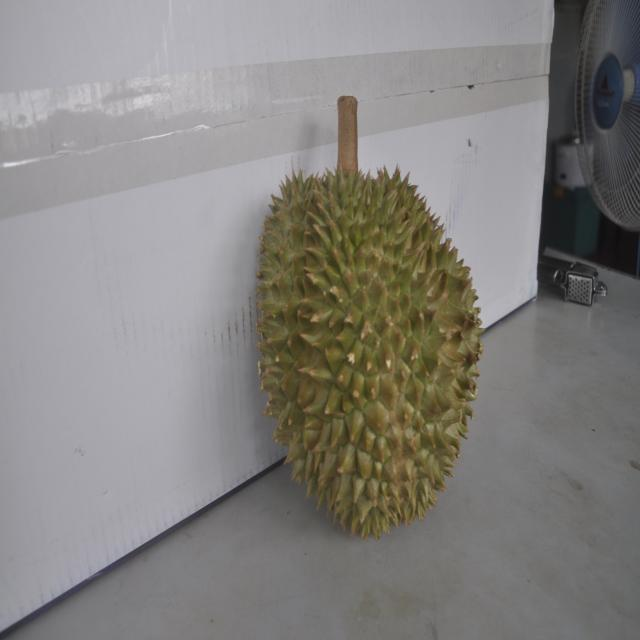mature: (255, 148, 472, 537)
